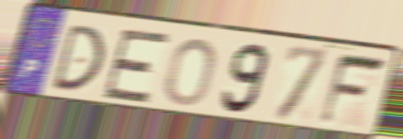7: (275, 42, 334, 125)
9: (220, 41, 273, 115)
D: (48, 22, 107, 93)
E: (99, 28, 174, 105)
F: (315, 51, 390, 128)
O: (163, 36, 219, 108)
